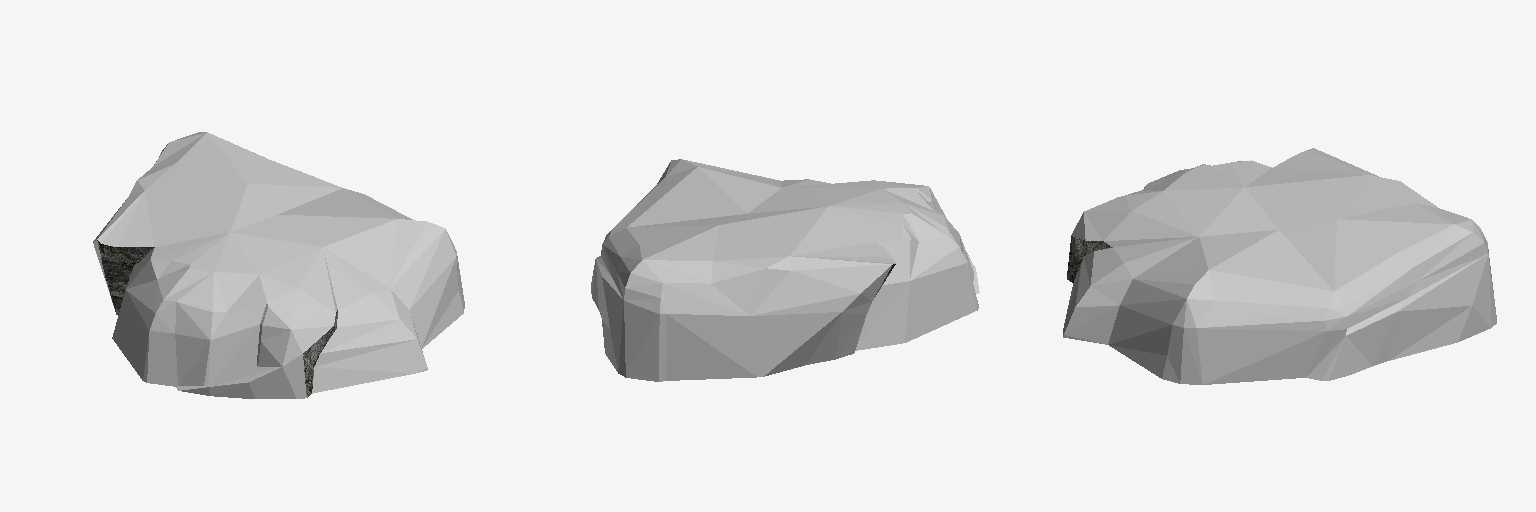
The picture shows the model from 3 angles: view 1: azimuth 30°, elevation 25°; view 2: azimuth 150°, elevation 25°; view 3: azimuth 270°, elevation 25°; orthographic projection.
Visible parts, largest first — view 1: outcropB; view 2: outcropB; view 3: outcropB.
Part boxes in pixels (left/top/right/bottom): outcropB: left=93, top=132, right=464, bottom=398; outcropB: left=591, top=159, right=979, bottom=381; outcropB: left=1063, top=148, right=1496, bottom=384.
Bounding box in the file's own units: 22.98 × 6.87 × 26.82.
2 materials, 1 textured.